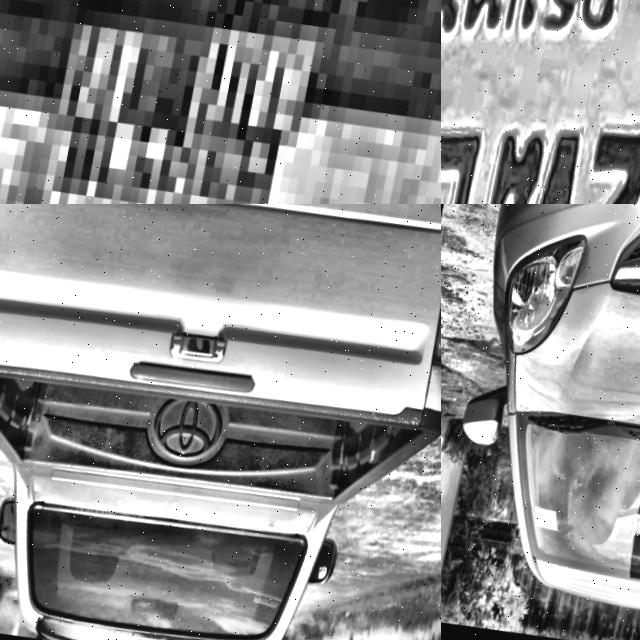license-plate: (0, 0, 441, 204), (441, 0, 640, 204)
